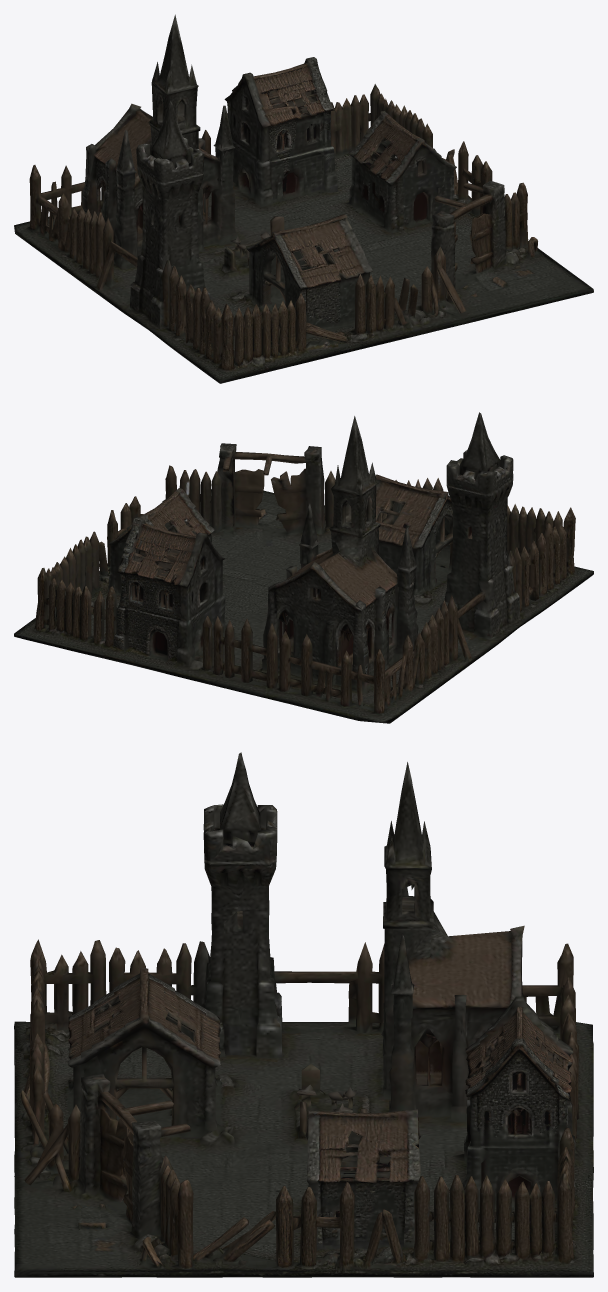
File: undead-2.glb
3 views of the same model, one above another, from view 1: azimuth 30°, elevation 25°; view 2: azimuth 150°, elevation 25°; view 3: azimuth 270°, elevation 25° (orthographic). The views are drawn at different scales.
Parts seen in each view (by area): view 1: tripo_node_054b5783-c72a-4572-9c39-a735f9633564; view 2: tripo_node_054b5783-c72a-4572-9c39-a735f9633564; view 3: tripo_node_054b5783-c72a-4572-9c39-a735f9633564.
Boxes of the visible parts, bbox=[...] form: tripo_node_054b5783-c72a-4572-9c39-a735f9633564: bbox=[14, 14, 593, 383]; tripo_node_054b5783-c72a-4572-9c39-a735f9633564: bbox=[14, 412, 593, 723]; tripo_node_054b5783-c72a-4572-9c39-a735f9633564: bbox=[14, 752, 593, 1277].
Size of the model in its own units: 1 by 0.6165 by 0.9757.
Materials: 1 (1 with a texture image).
